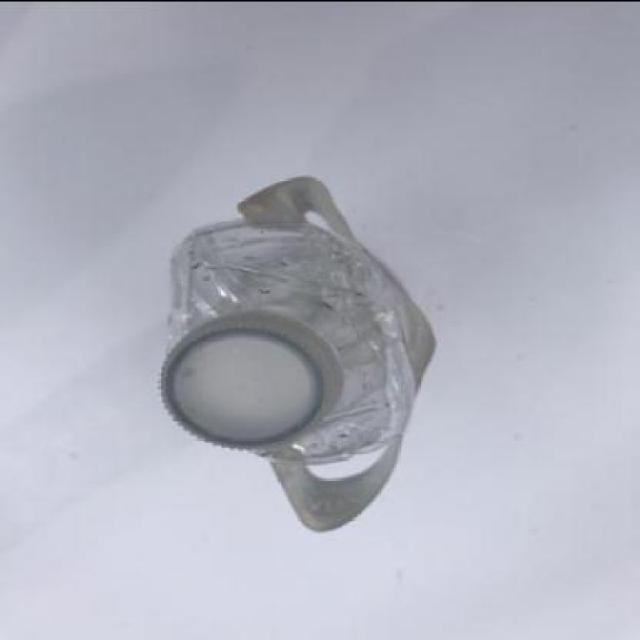PLASTIC: (156, 176, 436, 533), (157, 315, 340, 453)
